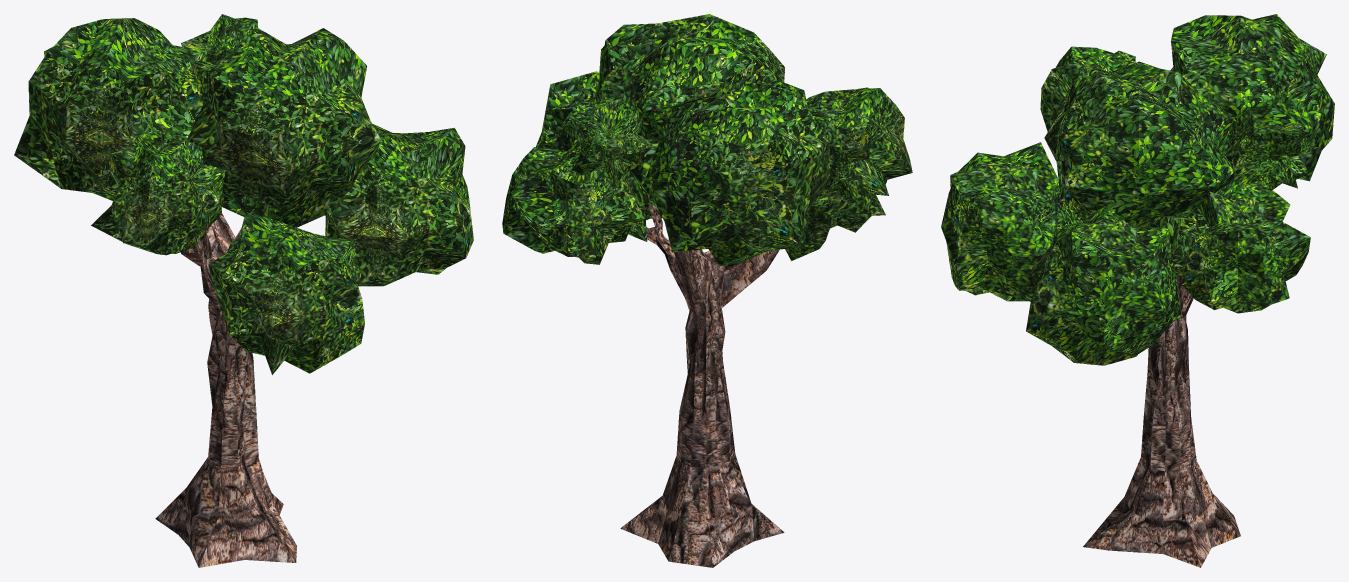
Rendered from S_tree 3.fbx.
The picture shows the model from 3 angles, left to right: view 1: azimuth 30°, elevation 25°; view 2: azimuth 150°, elevation 25°; view 3: azimuth 270°, elevation 25°; orthographic projection. The views are drawn at different scales.
Visible parts, largest first — view 1: Cylinder.012; view 2: Cylinder.012; view 3: Cylinder.012.
Part boxes in pixels (left/top/right/bottom): Cylinder.012: left=14, top=14, right=473, bottom=567; Cylinder.012: left=502, top=14, right=912, bottom=567; Cylinder.012: left=941, top=14, right=1334, bottom=567.
Bounding box in the file's own units: 1686 × 2230 × 1629.
2 materials, 2 textured.
